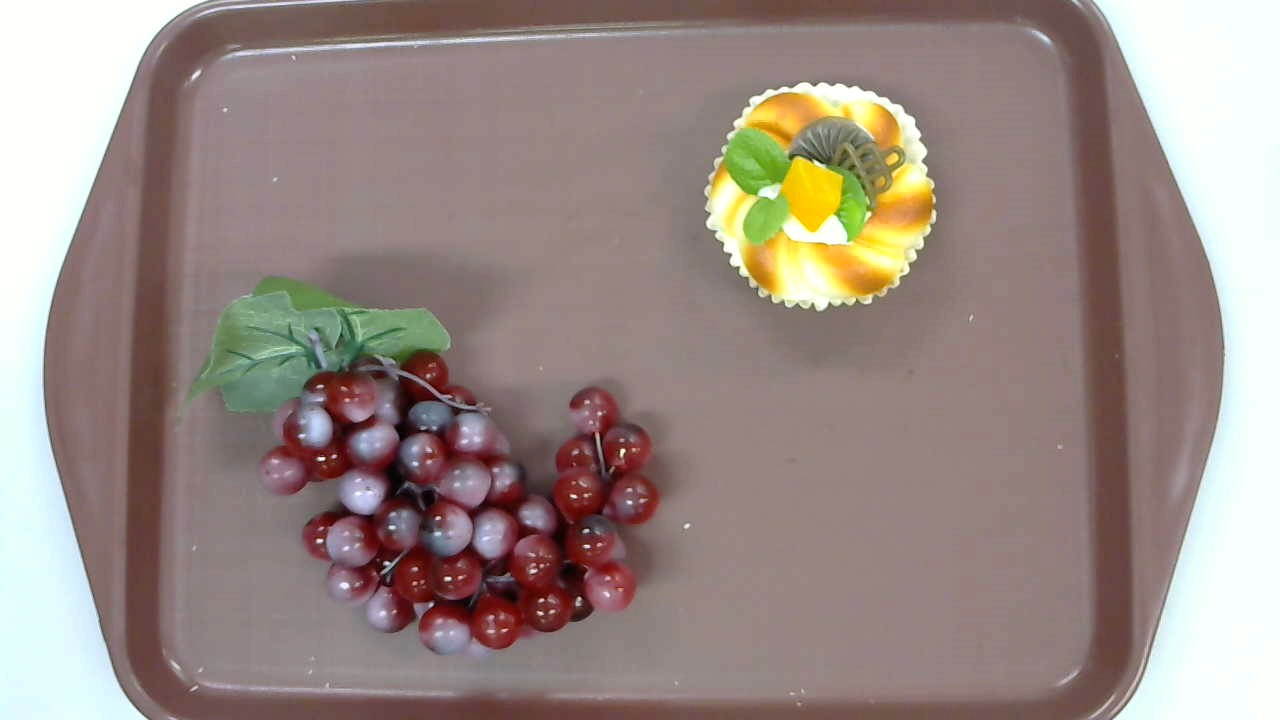fruit tart: (703, 82, 937, 313)
grape: (185, 275, 663, 655)
